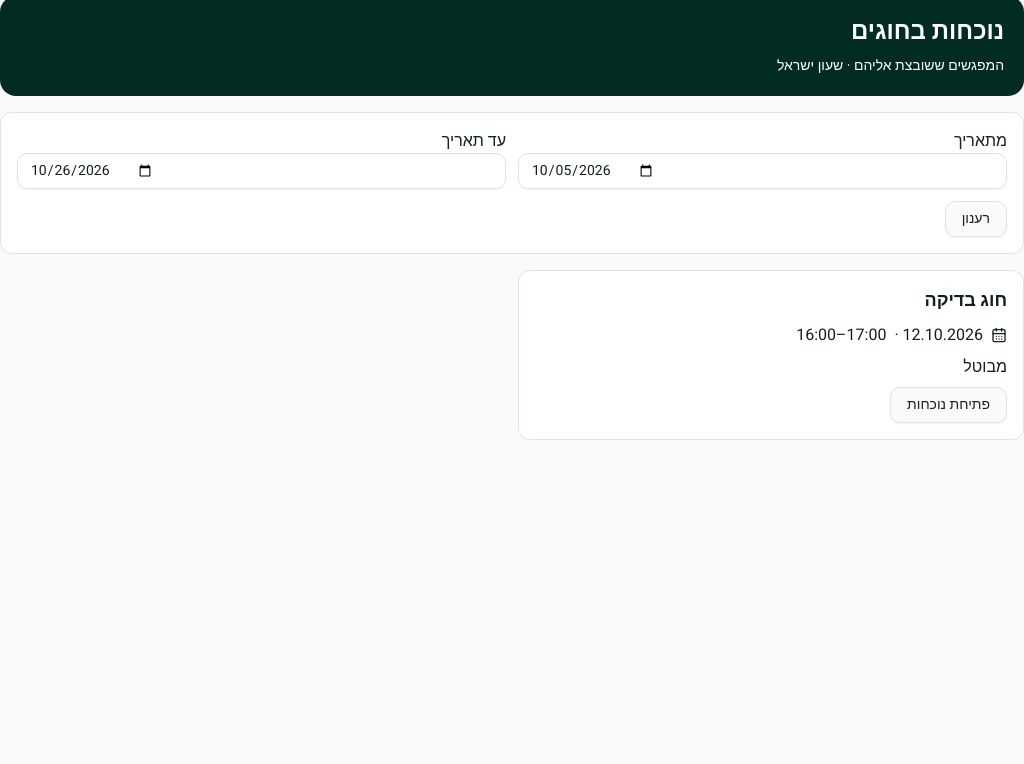
Test: cancelled session cannot be marked
This screenshot has width=1024, height=764.
Click the button "פתיחת נוכחות". click: {"x": 949, "y": 405}
box: [890,387,1007,423]
(page scrolled)
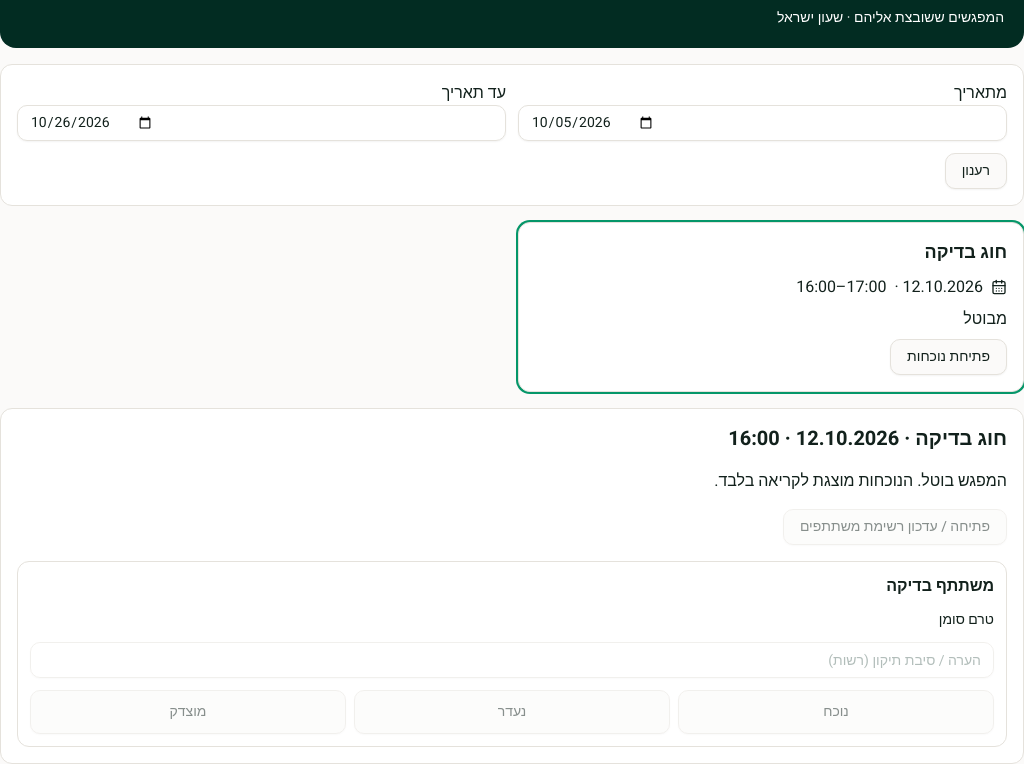
Expected: the button "נוכח" is disabled, [678,690,994,734]
